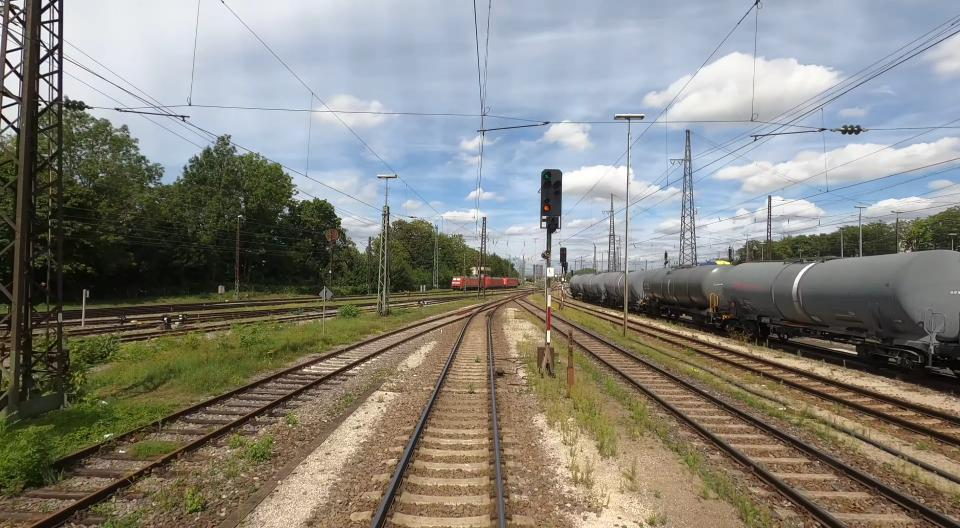Plant: (0, 298, 484, 494), (555, 308, 839, 441), (574, 353, 771, 528), (518, 335, 616, 458), (526, 315, 568, 358), (230, 434, 274, 462), (128, 440, 177, 459), (332, 393, 360, 412), (570, 462, 592, 486), (621, 460, 638, 491), (647, 513, 668, 528), (742, 372, 761, 383), (830, 402, 843, 416), (913, 441, 930, 451), (286, 413, 298, 424), (766, 382, 784, 389), (680, 349, 694, 358), (654, 490, 662, 498), (468, 384, 474, 393), (474, 357, 480, 362)
